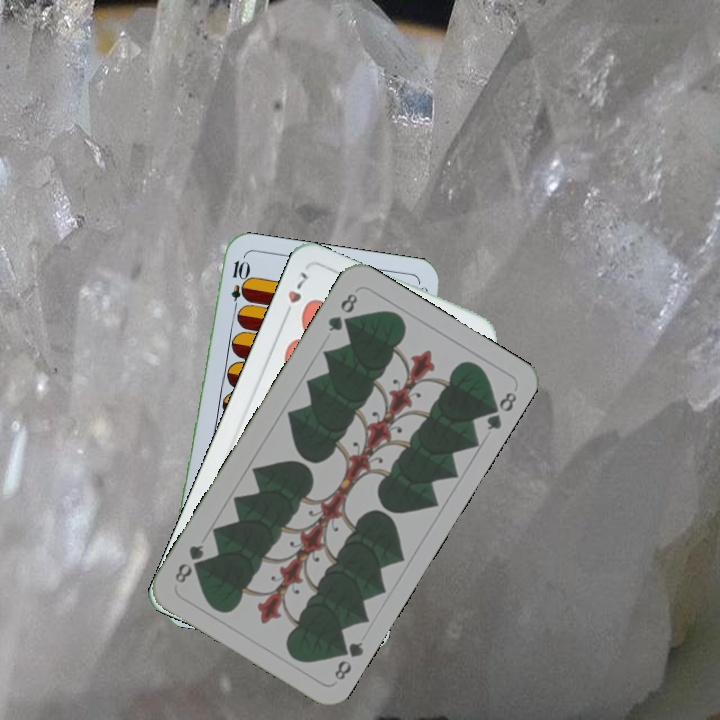E10: (226, 257, 249, 316)
G8: (323, 289, 361, 334), (330, 637, 366, 683)
H7: (279, 267, 312, 322)
